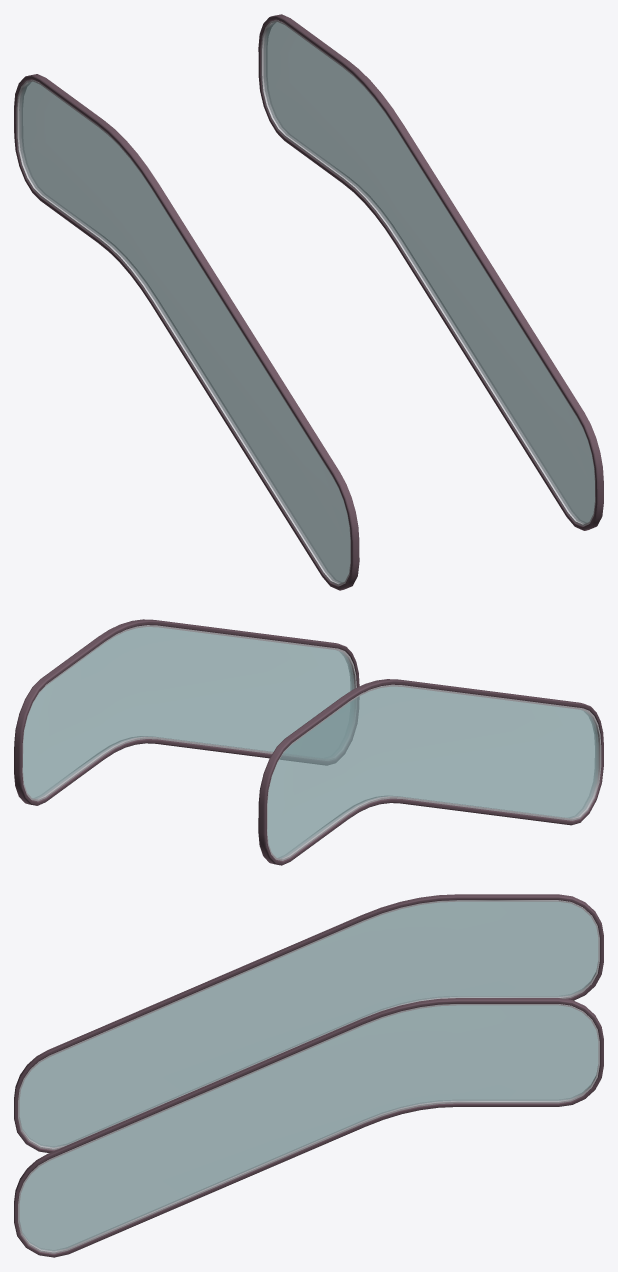
Rendered from Escalater.fbx.
3 views of the same model, one above another, from view 1: azimuth 30°, elevation 25°; view 2: azimuth 150°, elevation 25°; view 3: azimuth 270°, elevation 25° (orthographic). The views are drawn at different scales.
Visible parts, largest first — view 1: M_Escalater_09, M_Escalater_06, M_Escalater_04, M_Escalater_07, M_Escalater_05, M_Escalater_08; view 2: M_Escalater_09, M_Escalater_06, M_Escalater_07, M_Escalater_04, M_Escalater_08, M_Escalater_05; view 3: M_Escalater_06, M_Escalater_09, M_Escalater_04, M_Escalater_07, M_Escalater_05, M_Escalater_08.
Part boxes in pixels (bbox=[...]): M_Escalater_09: bbox=[19, 81, 350, 583]; M_Escalater_06: bbox=[263, 22, 594, 523]; M_Escalater_04: bbox=[258, 14, 603, 530]; M_Escalater_07: bbox=[14, 74, 359, 590]; M_Escalater_05: bbox=[261, 20, 595, 526]; M_Escalater_08: bbox=[16, 80, 350, 585]; M_Escalater_09: bbox=[267, 686, 598, 858]; M_Escalater_06: bbox=[23, 627, 354, 798]; M_Escalater_07: bbox=[258, 679, 603, 865]; M_Escalater_04: bbox=[14, 619, 359, 805]; M_Escalater_08: bbox=[267, 684, 601, 860]; M_Escalater_05: bbox=[22, 625, 356, 801]; M_Escalater_06: bbox=[19, 1005, 598, 1251]; M_Escalater_09: bbox=[19, 901, 598, 1147]; M_Escalater_04: bbox=[14, 998, 603, 1257]; M_Escalater_07: bbox=[14, 894, 603, 1152]; M_Escalater_05: bbox=[18, 1004, 599, 1253]; M_Escalater_08: bbox=[18, 900, 599, 1149].
Size of the model in its own units: 268 by 300 by 623.
